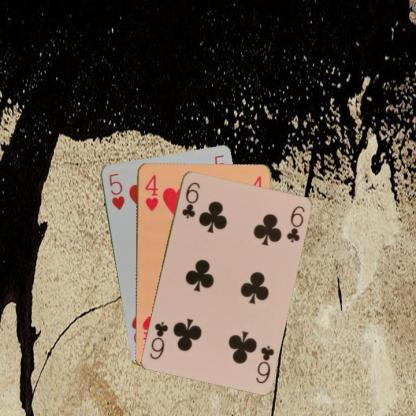4h: (142, 172, 160, 212)
5h: (106, 170, 126, 211)
6c: (253, 342, 276, 385), (179, 179, 201, 220)
